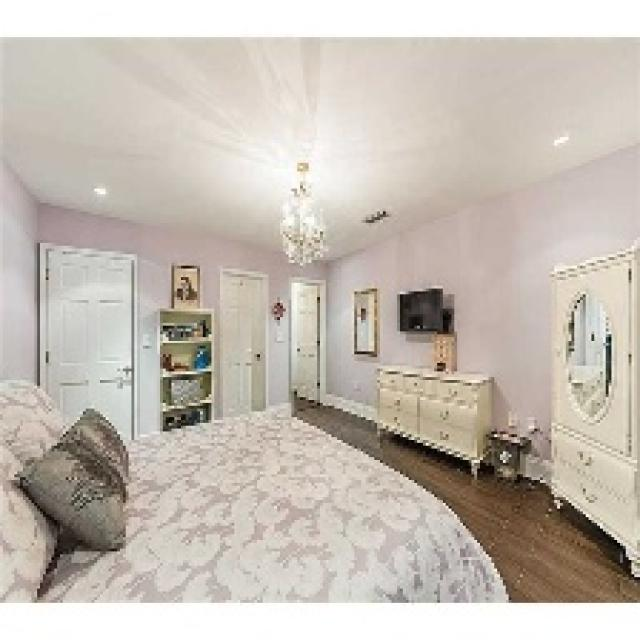Bed: (0, 377, 509, 603)
